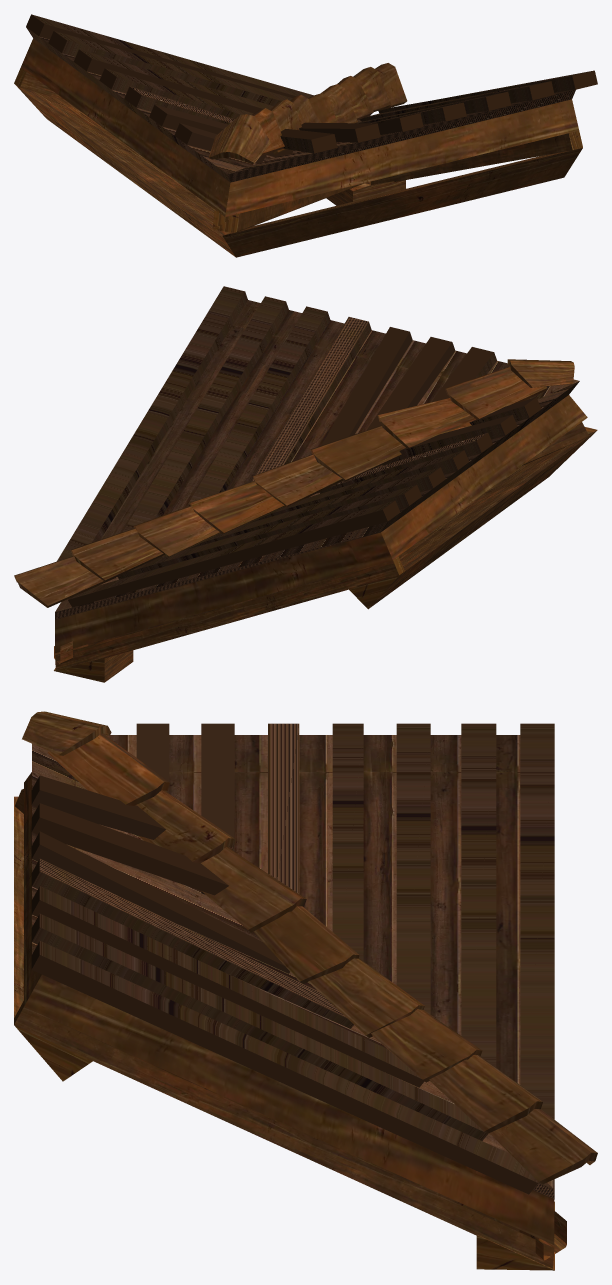
3 views of the same model, one above another, from view 1: azimuth 30°, elevation 25°; view 2: azimuth 150°, elevation 25°; view 3: azimuth 270°, elevation 25° (orthographic). The views are drawn at different scales.
Parts seen in each view (by area): view 1: SM_BB_T2_Roof_Large_Valley_Shallow_LOD0; view 2: SM_BB_T2_Roof_Large_Valley_Shallow_LOD0; view 3: SM_BB_T2_Roof_Large_Valley_Shallow_LOD0.
Boxes of the visible parts, x1,y1,x2,y2 form: SM_BB_T2_Roof_Large_Valley_Shallow_LOD0: [14, 14, 597, 257]; SM_BB_T2_Roof_Large_Valley_Shallow_LOD0: [14, 286, 597, 682]; SM_BB_T2_Roof_Large_Valley_Shallow_LOD0: [14, 711, 597, 1270].
Size of the model in its own units: 3.43 by 2.26 by 3.4.
2 materials, 2 textured.
